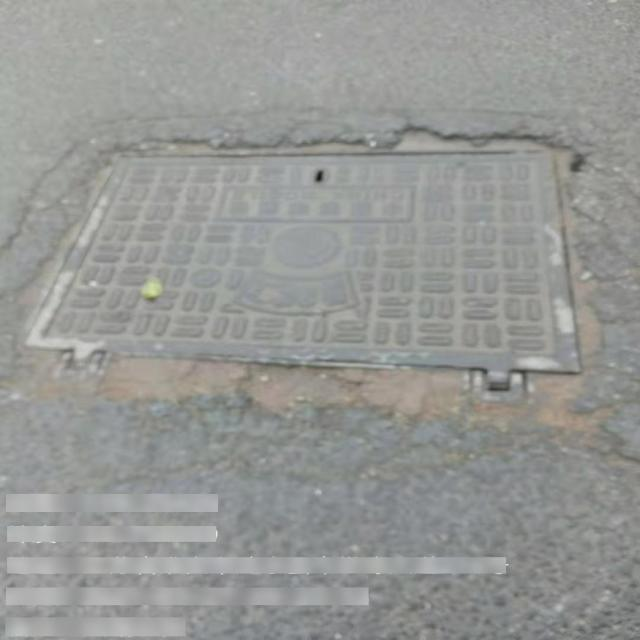Good: (22, 143, 581, 400)
